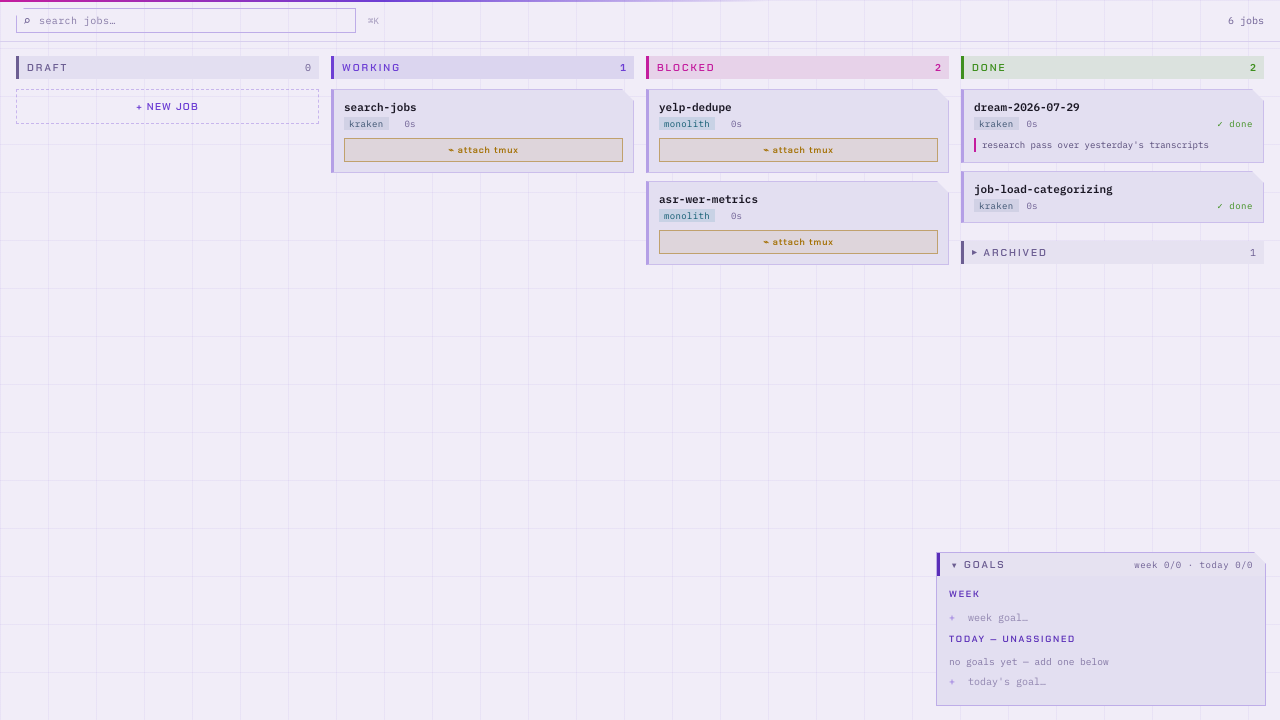
Test: the search bar › opens the archive drawer for a match inside it, without storing the flag
Type "index" into the field with id "job-search" at (186, 20), box top-left (16, 8), bottom-right (356, 33)
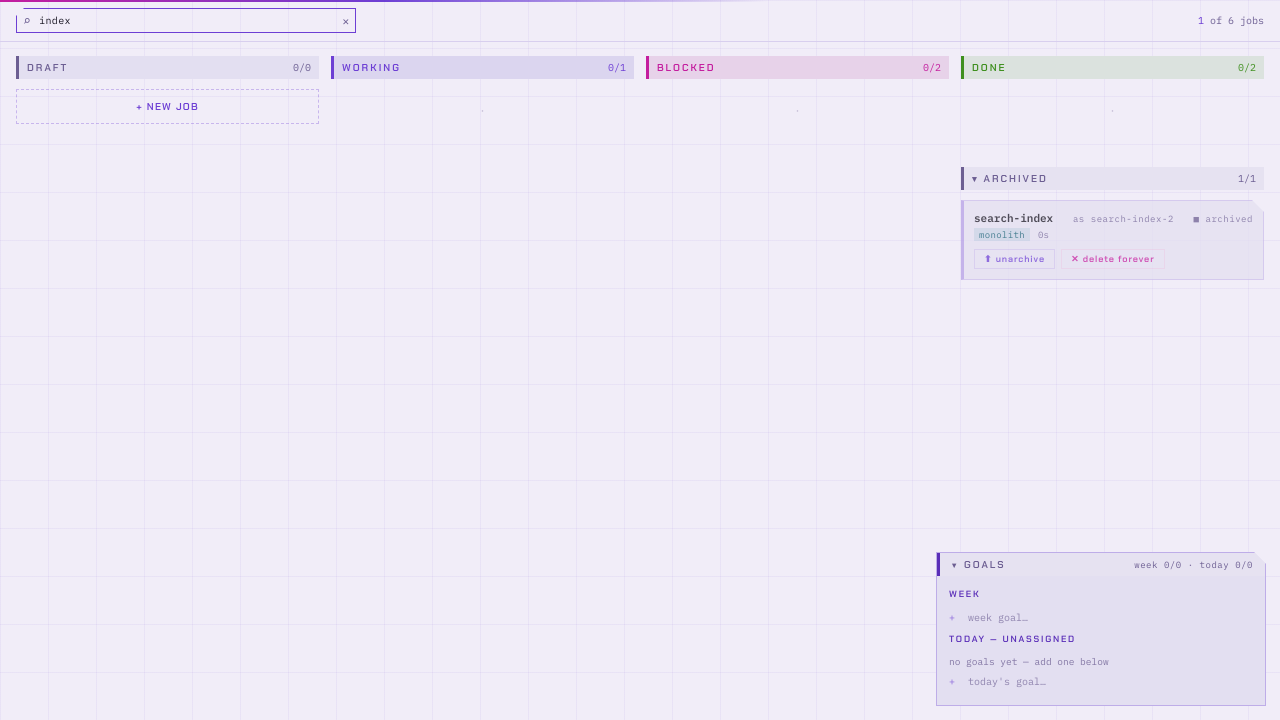
expect the text "1/1" is shown: met, box top-left (1238, 172), bottom-right (1256, 185)
